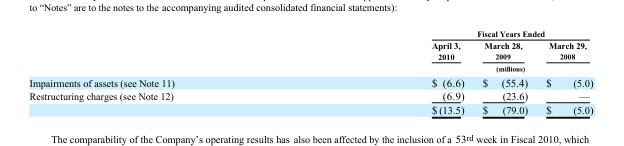table: (28, 28, 592, 115)
table column: (28, 28, 302, 115), (302, 28, 472, 115), (472, 28, 536, 115), (536, 28, 592, 115)
table column header: (28, 28, 592, 74)
table row: (28, 38, 592, 62), (28, 74, 592, 88), (28, 88, 592, 102), (28, 102, 592, 115), (28, 62, 592, 74), (28, 28, 592, 38)
table spanning cell: (302, 62, 592, 74), (302, 28, 592, 38)
